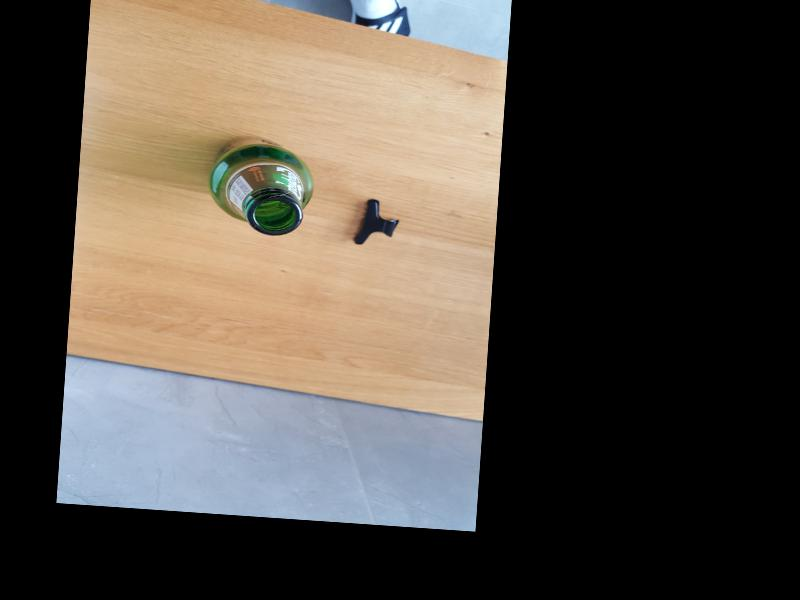Beer: (206, 132, 319, 237)
